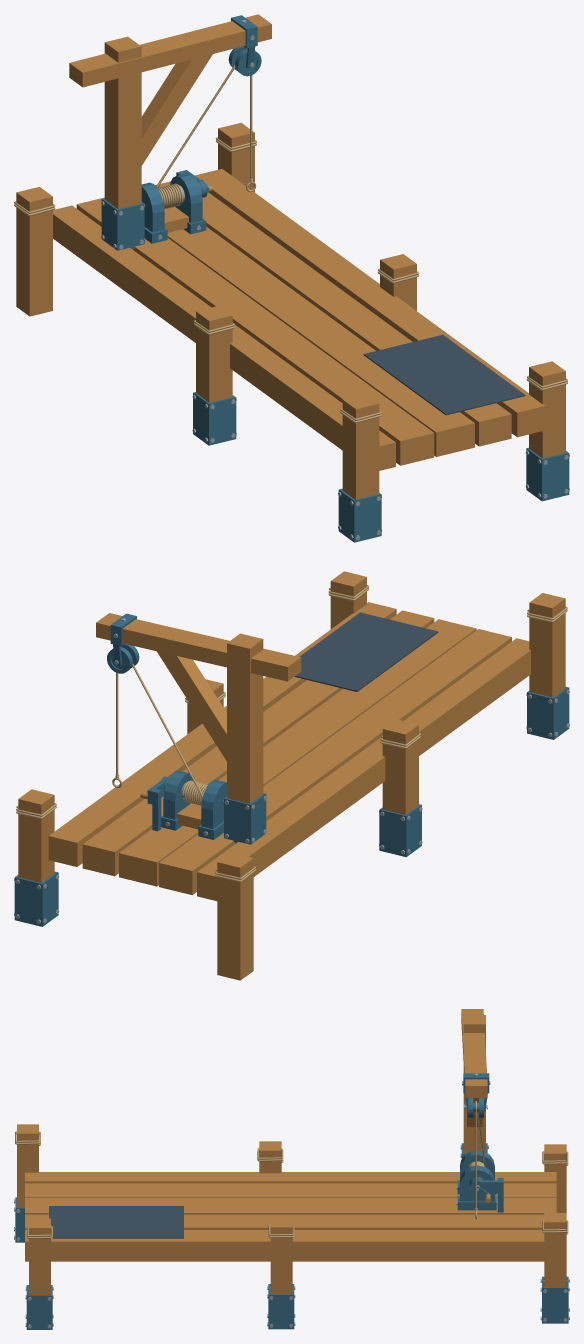
File: Harbor_Gyojou_v007.fbx
The picture shows the model from 3 angles, top to bottom: view 1: azimuth 30°, elevation 25°; view 2: azimuth 150°, elevation 25°; view 3: azimuth 270°, elevation 25°; orthographic projection. The views are drawn at different scales.
Visible parts, largest first — view 1: Structure, Post_Ropes, Hoist_Rope; view 2: Structure, Post_Ropes, Hoist_Rope; view 3: Structure, Post_Ropes.
Part boxes in pixels (<box>): Structure: <box>16,14,569,542</box>; Post_Ropes: <box>14,137,567,422</box>; Hoist_Rope: <box>156,64,256,192</box>; Structure: <box>14,571,569,980</box>; Post_Ropes: <box>16,585,567,881</box>; Hoist_Rope: <box>112,663,202,797</box>; Structure: <box>14,1009,569,1329</box>; Post_Ropes: <box>15,1131,568,1240</box>.
Size of the model in its own units: 140 by 170 by 356.
